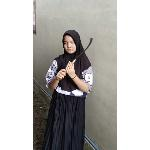Celurit: (61, 35, 98, 73)
